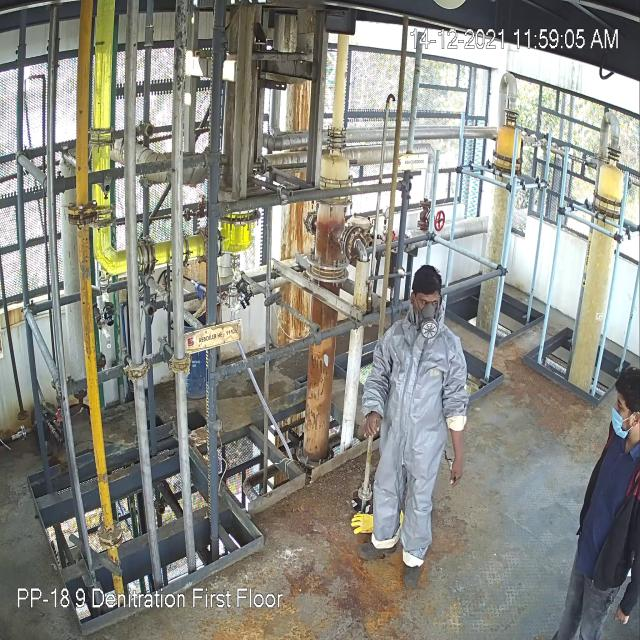Mask: (412, 303, 440, 338)
No Glove: (450, 430, 464, 485), (364, 412, 381, 438)
No Hardhat: (411, 265, 441, 295)
Overall Suit: (365, 320, 465, 558)
Safety Boots: (358, 540, 396, 562), (402, 558, 422, 588), (402, 550, 418, 560)
